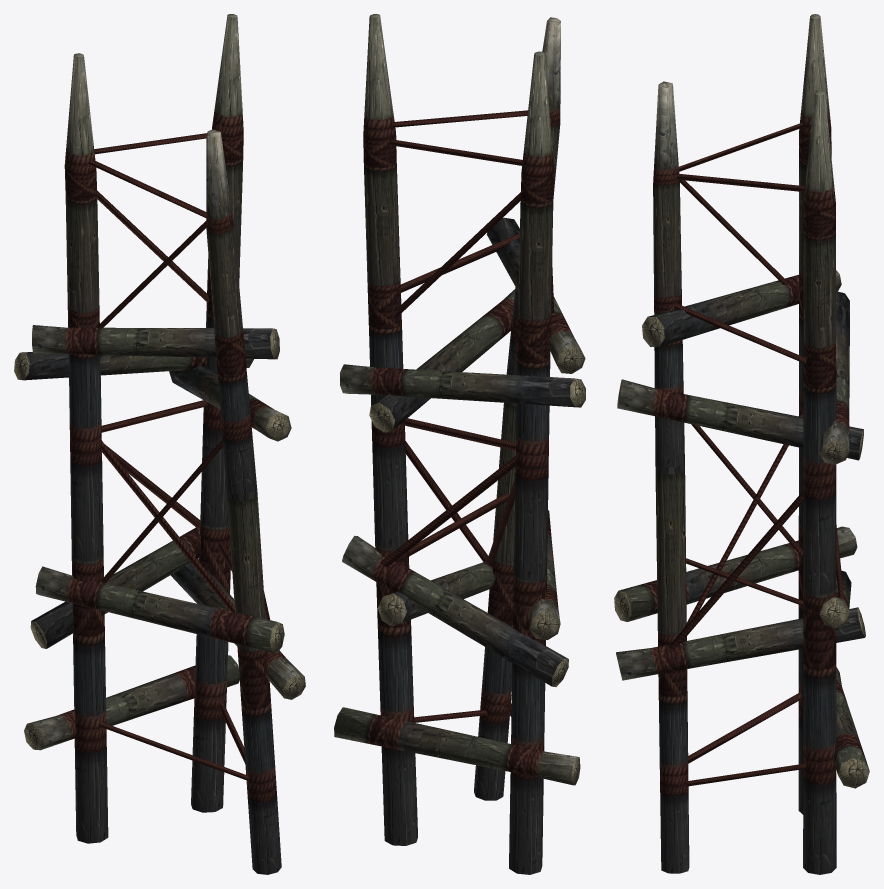
File: camp_redthief_fence_02.fbx
3 views of the same model, side by side, from view 1: azimuth 30°, elevation 25°; view 2: azimuth 150°, elevation 25°; view 3: azimuth 270°, elevation 25° (orthographic). The views are drawn at different scales.
Parts seen in each view (by area): view 1: camp_redthief_fence_02; view 2: camp_redthief_fence_02; view 3: camp_redthief_fence_02.
Part boxes in pixels (left/top/right/bottom): camp_redthief_fence_02: left=14, top=14, right=305, bottom=874; camp_redthief_fence_02: left=334, top=14, right=585, bottom=874; camp_redthief_fence_02: left=614, top=14, right=869, bottom=874.
Bounding box in the file's own units: 4.1 × 13.53 × 3.94.
